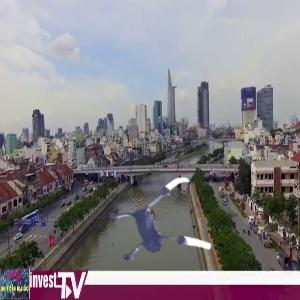drone: (100, 170, 221, 291)
